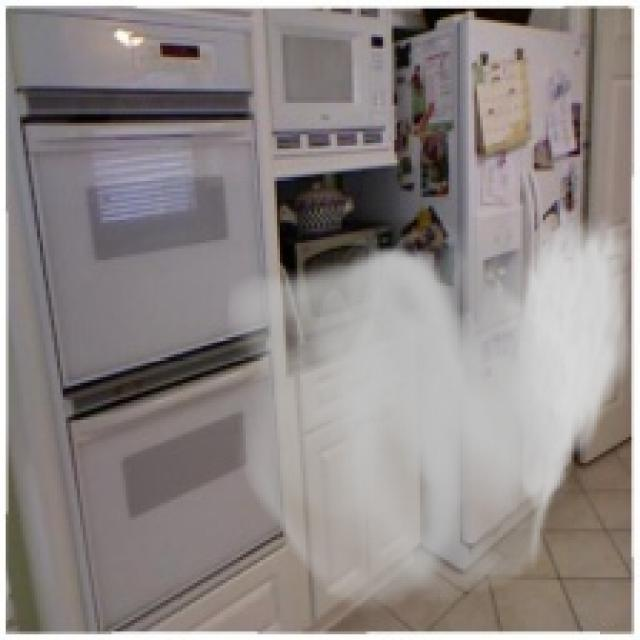smoke: (226, 197, 637, 623)
